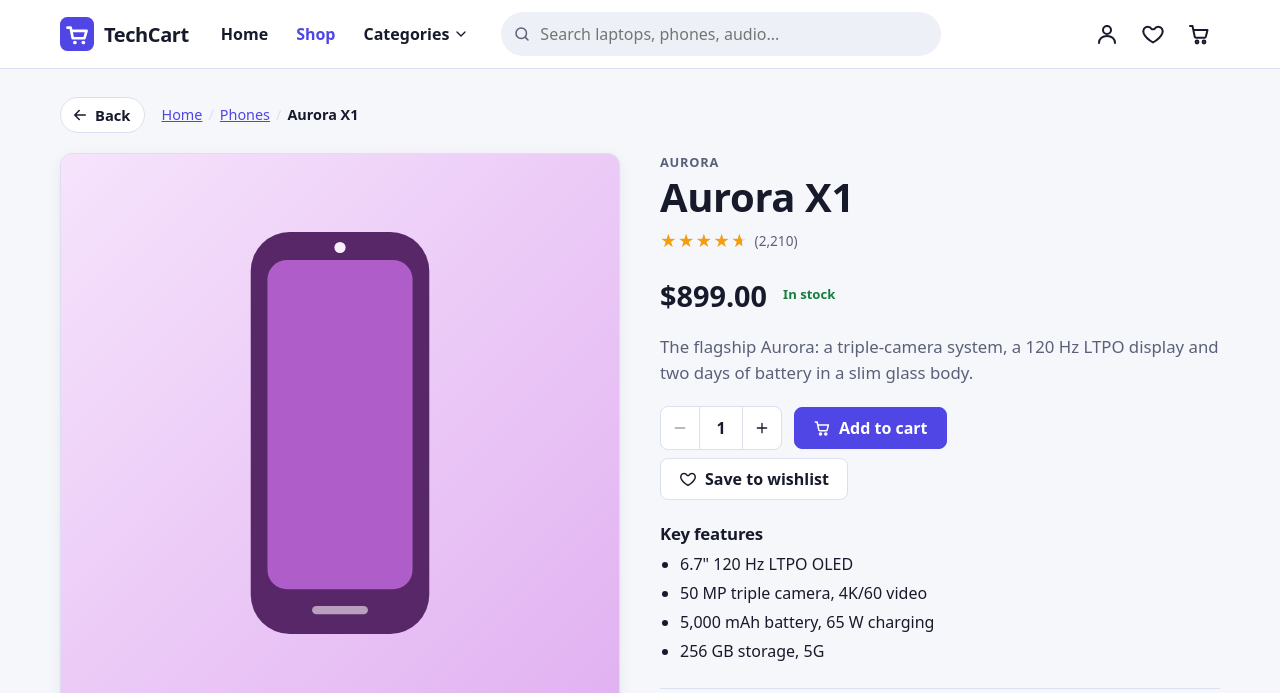
Scenario: BackButton › goes to a sensible fallback when the visit started on this page
Click the button "Back" at (103, 115), box [60,97,146,133]
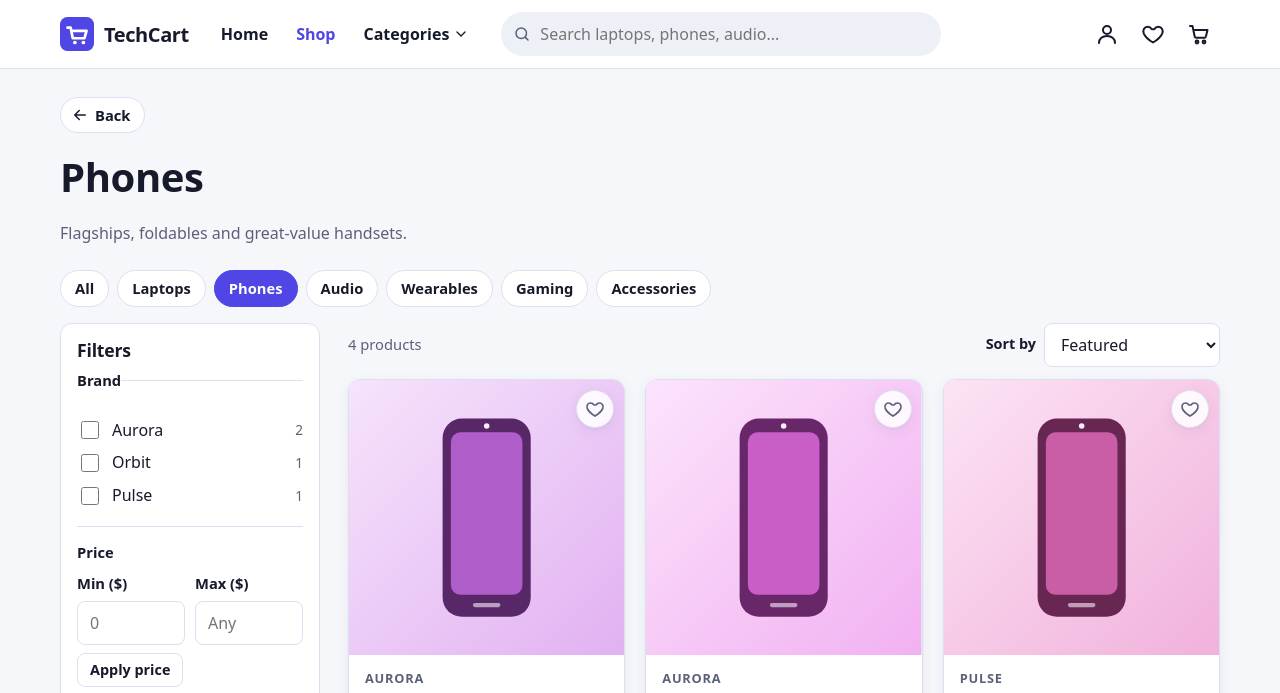
Now the heading "Phones" is shown, box [60,149,204,204]
